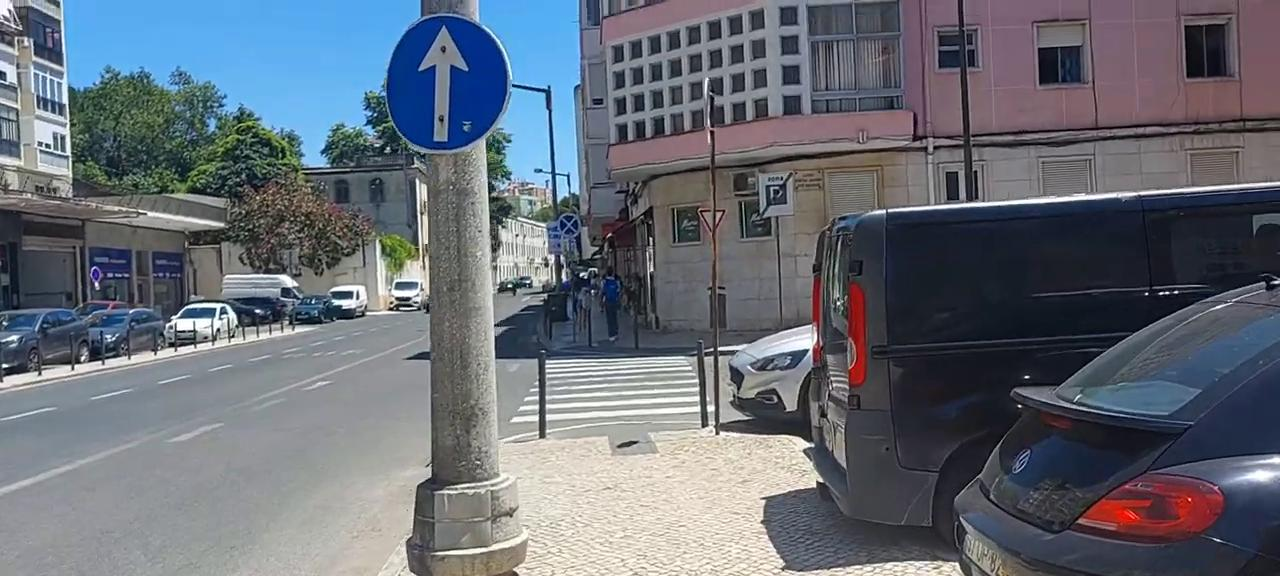sentido obrigatorio: (385, 15, 512, 152)
